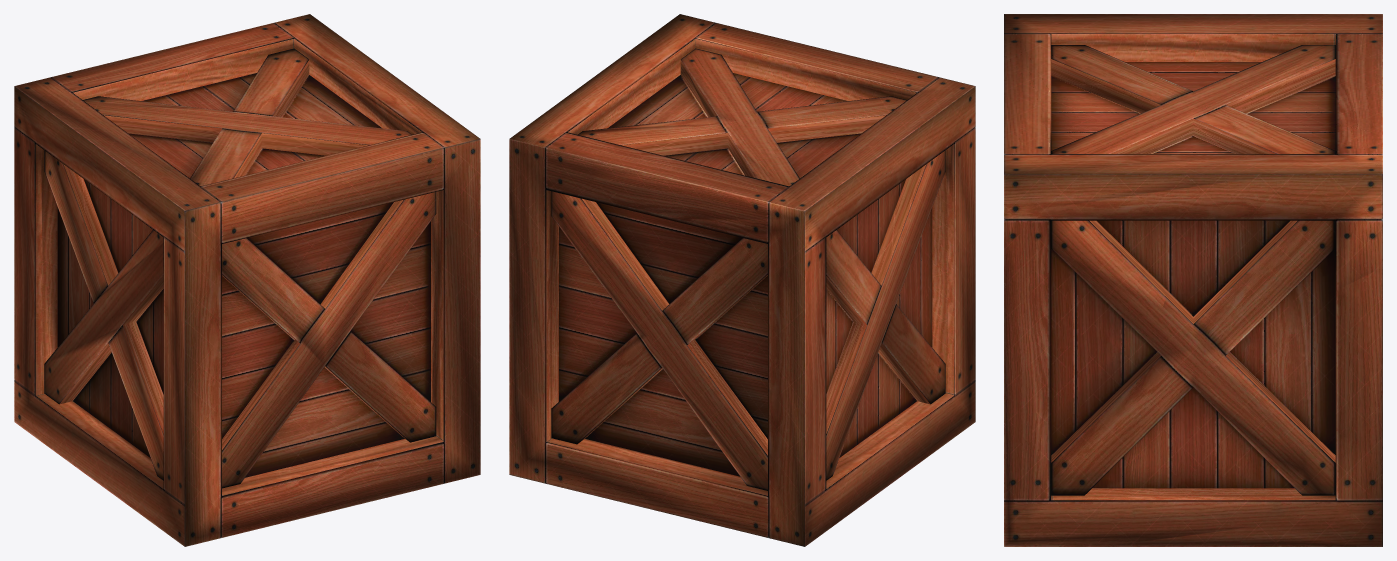
3 views of the same model, side by side, from view 1: azimuth 30°, elevation 25°; view 2: azimuth 150°, elevation 25°; view 3: azimuth 270°, elevation 25° (orthographic). The views are drawn at different scales.
Visible parts, largest first — view 1: Cube.005; view 2: Cube.005; view 3: Cube.005.
Part boxes in pixels (box(x1,y1,x2,y2)): Cube.005: box(14, 14, 480, 546); Cube.005: box(509, 14, 975, 546); Cube.005: box(1004, 14, 1382, 546).
Bounding box in the file's own units: 0.4506 × 0.4891 × 0.4506.
Materials: 1 (1 with a texture image).
